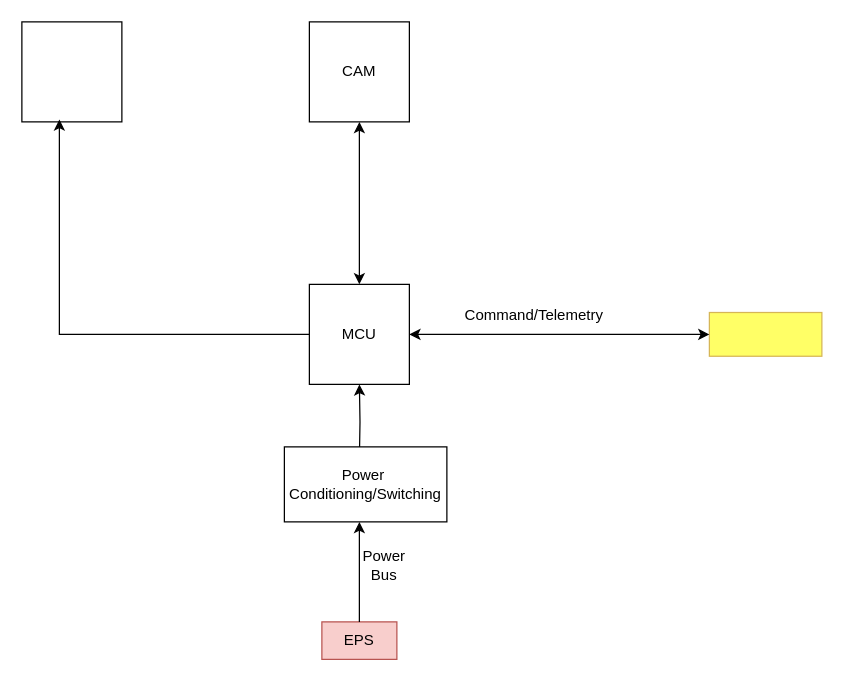
This 844x681 diagram has some shape labels left out. The box of each missing label's shape, as (x1, y1, x2, y2) in pixels:
MicroSD: (21, 21, 122, 122)
OBC: (708, 311, 822, 356)
